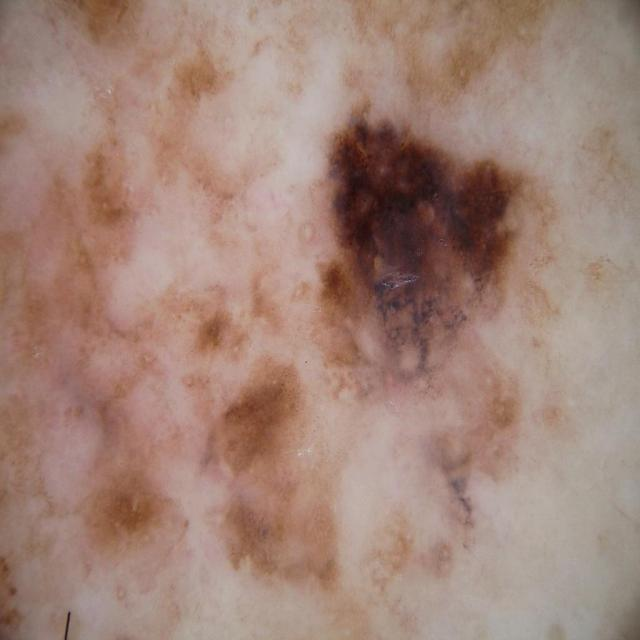Skin-Cancer Seborrheic keratosis: (11, 1, 638, 640)
